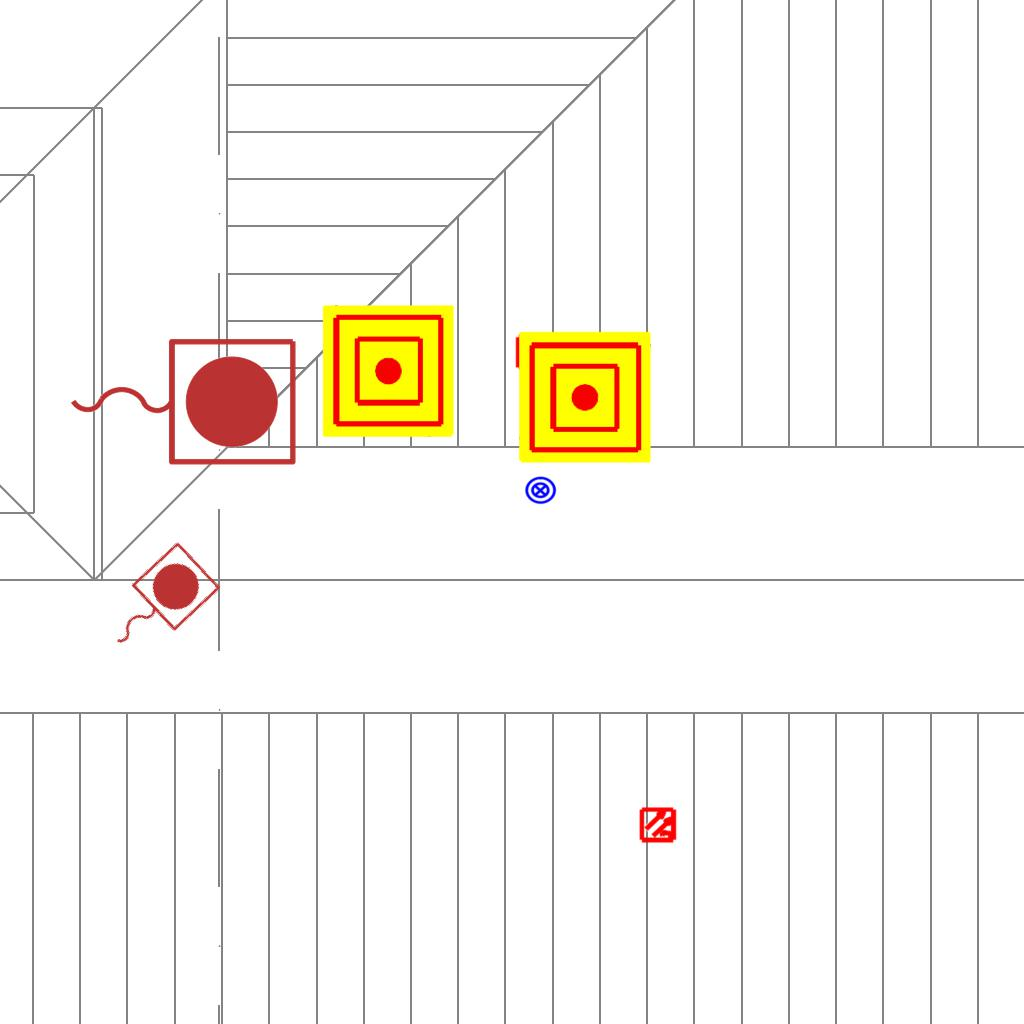NAM-Nichtautomatischer_Melder: (322, 305, 454, 437), (519, 331, 651, 463)
OT_Multisensormelder_(Kombination_RMO_WMD): (505, 324, 561, 380), (631, 797, 687, 853)
Taster_beleuchtet: (524, 474, 557, 507)
Zugtaster: (60, 328, 304, 472), (87, 535, 227, 671)
